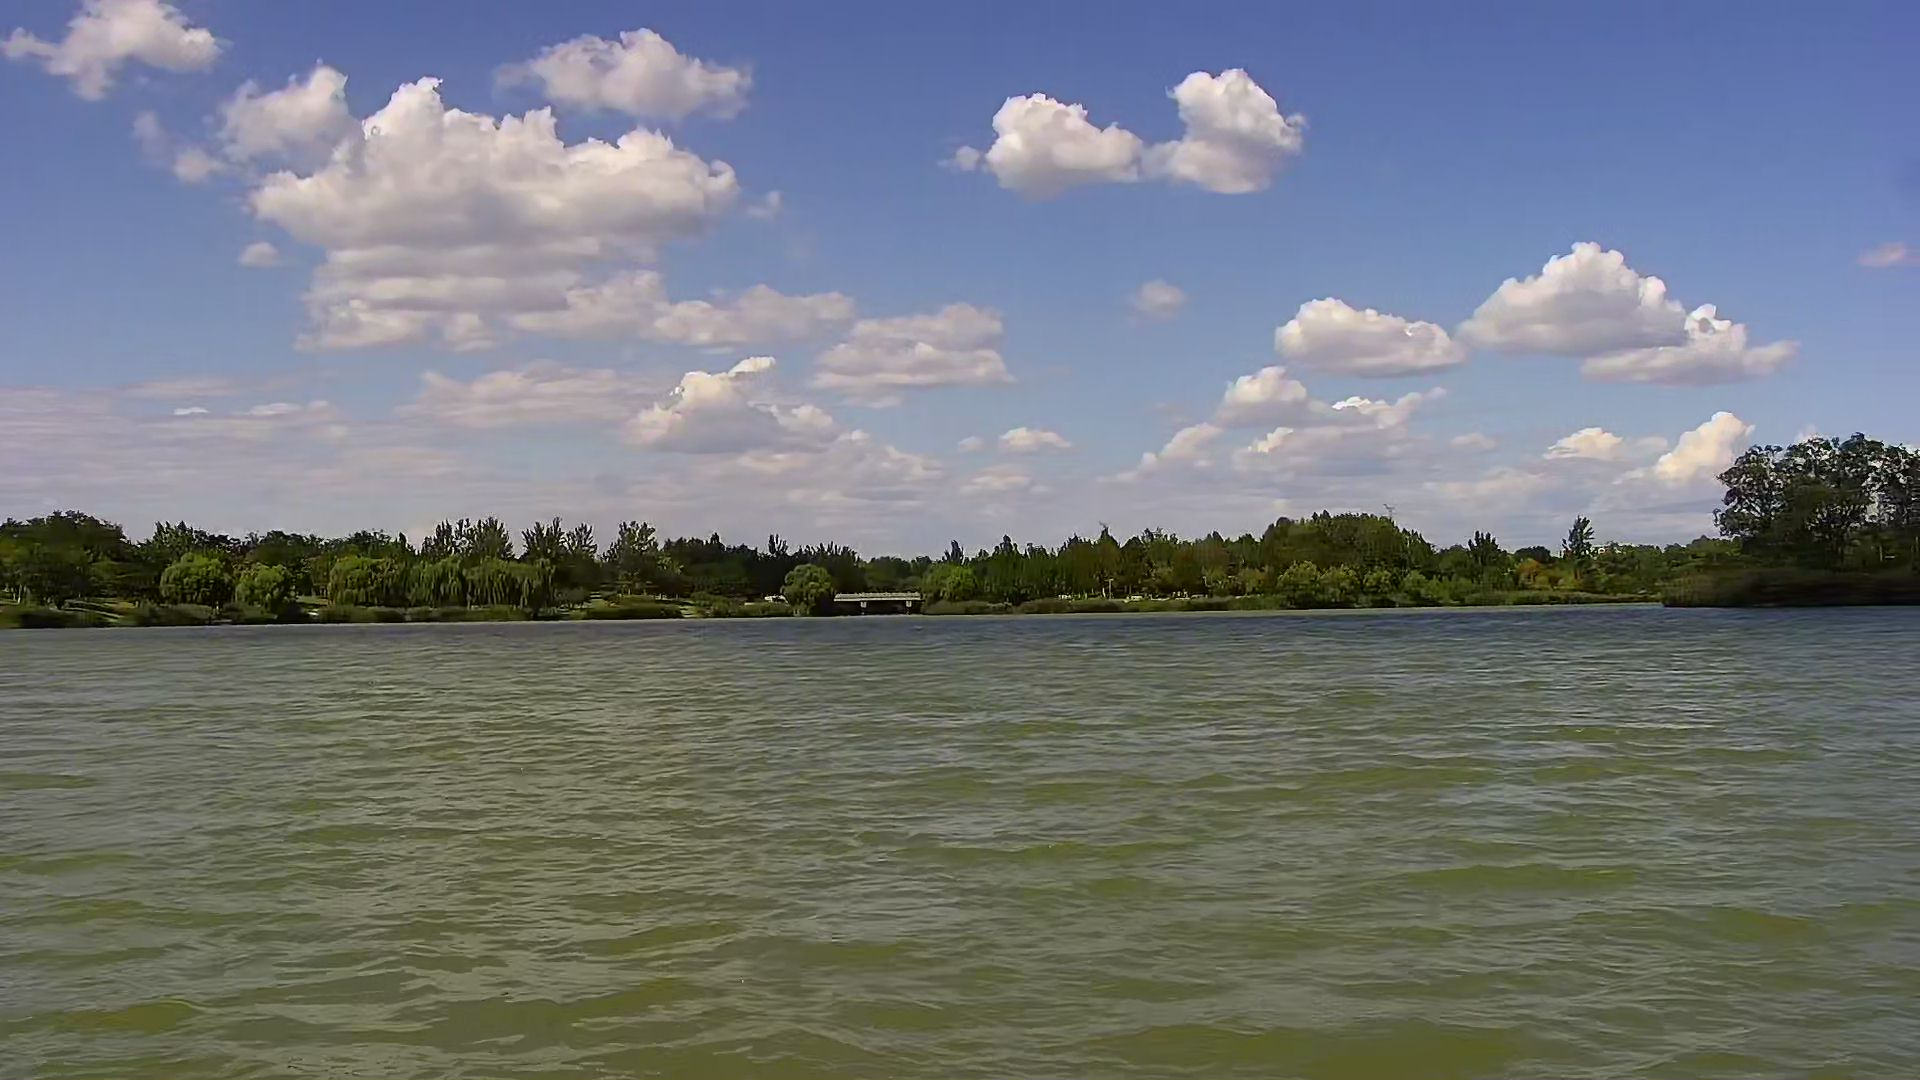bridge: (831, 585, 932, 618)
